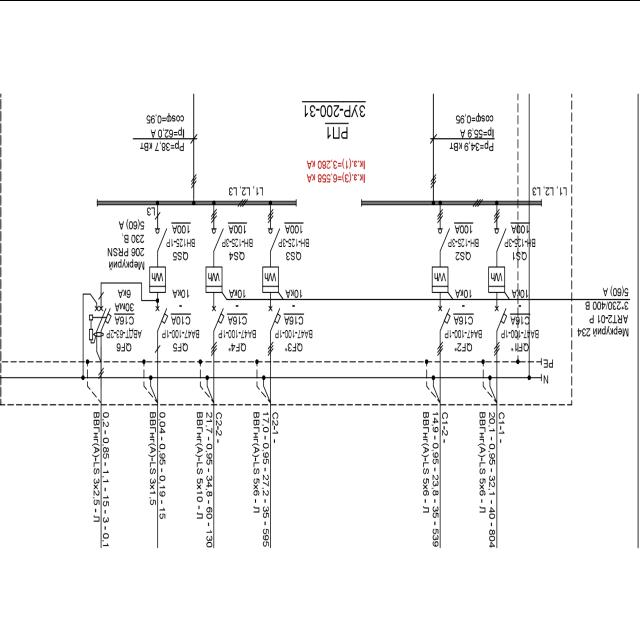-: (106, 219, 146, 272), (302, 99, 369, 121), (216, 314, 258, 339), (161, 314, 201, 340), (274, 314, 314, 340), (220, 219, 256, 247), (501, 316, 542, 340), (277, 220, 312, 248), (444, 314, 482, 339), (105, 314, 144, 338), (165, 219, 198, 247), (446, 223, 481, 247), (503, 224, 537, 247), (114, 286, 136, 311), (454, 286, 472, 300), (171, 286, 189, 299), (284, 285, 302, 298), (228, 285, 246, 298), (511, 286, 529, 298)
QF: (493, 305, 508, 331), (436, 306, 451, 332), (267, 306, 282, 332), (210, 306, 225, 332), (153, 306, 168, 332)
QFD: (94, 304, 112, 337)
QW: (436, 225, 452, 251), (492, 226, 508, 252), (209, 224, 224, 250), (266, 226, 280, 252), (154, 224, 168, 250)
WH: (488, 265, 506, 293), (262, 265, 280, 293), (431, 264, 449, 292), (205, 264, 223, 292), (149, 264, 166, 292)
